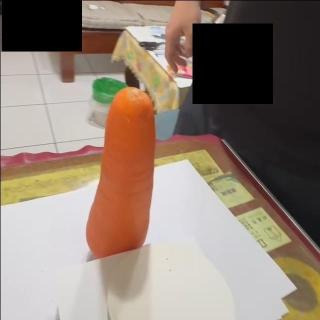carrot: (86, 87, 158, 256)
